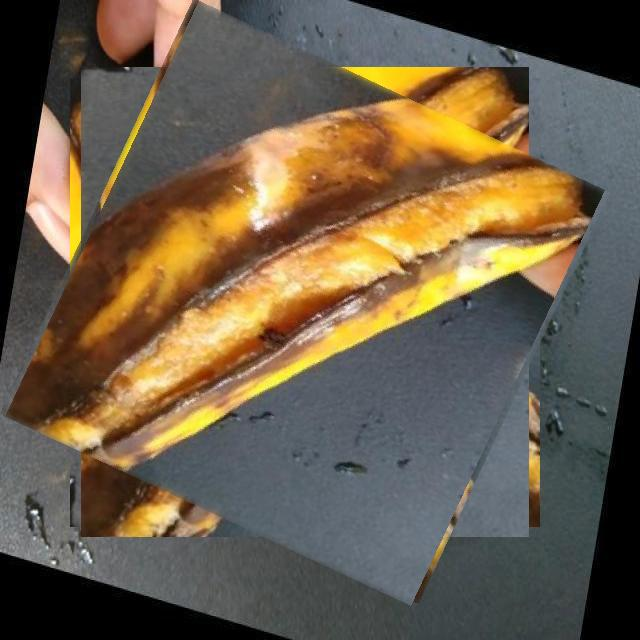Podre: (38, 35, 572, 570)
